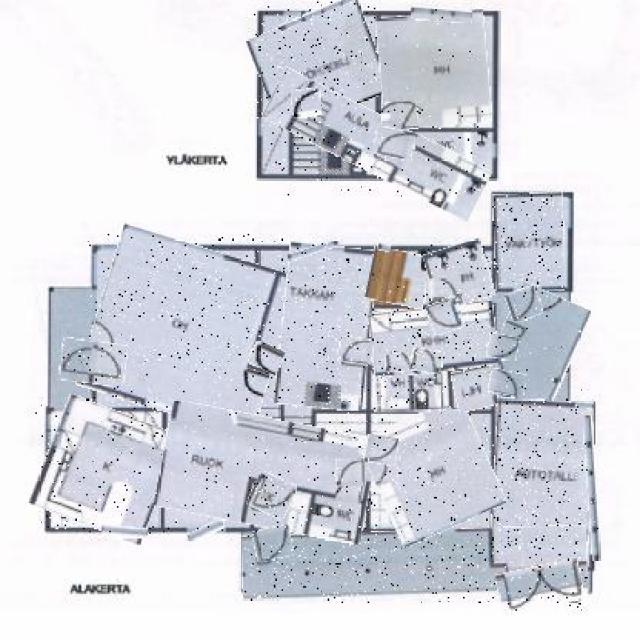door: (497, 562, 583, 610), (62, 340, 126, 385), (250, 474, 296, 517), (254, 526, 294, 560), (376, 128, 416, 158), (428, 300, 463, 334), (508, 288, 542, 320), (249, 343, 283, 374), (337, 337, 374, 365), (382, 102, 418, 129), (364, 437, 398, 465), (489, 370, 525, 396), (292, 89, 322, 117), (425, 280, 457, 305), (488, 334, 518, 360), (336, 459, 364, 486), (412, 350, 443, 372), (386, 352, 411, 372)
window: (586, 417, 600, 561), (277, 2, 360, 23), (411, 9, 472, 22), (288, 243, 340, 257), (186, 523, 225, 540), (103, 524, 149, 538), (89, 248, 102, 284), (377, 243, 391, 252)
zone: (86, 236, 288, 427), (157, 410, 375, 536), (243, 528, 588, 603), (262, 92, 492, 197), (36, 403, 172, 535), (366, 405, 497, 540), (492, 398, 592, 572), (278, 245, 374, 409), (253, 6, 384, 123), (378, 12, 491, 128), (488, 288, 582, 410), (369, 304, 497, 376), (492, 194, 565, 291), (428, 243, 492, 308), (366, 249, 431, 308), (374, 366, 457, 412), (452, 368, 498, 410)
